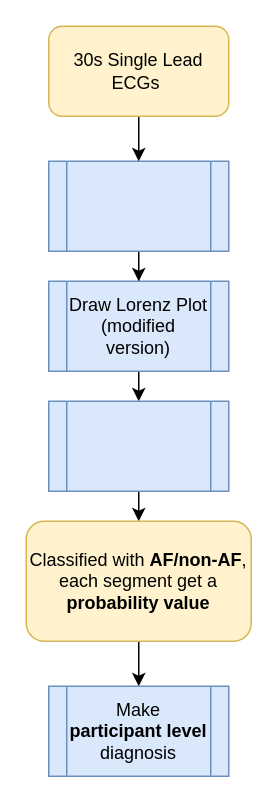
Image size: 278x803. Some labels were removed from this diagram. The shapes that lost their labels are listed below. From the top down, each one's centre as x and y in pixels, then its label:
At point 138,205: "Peak Detection".
At point 138,445: "MobilenetV2".
